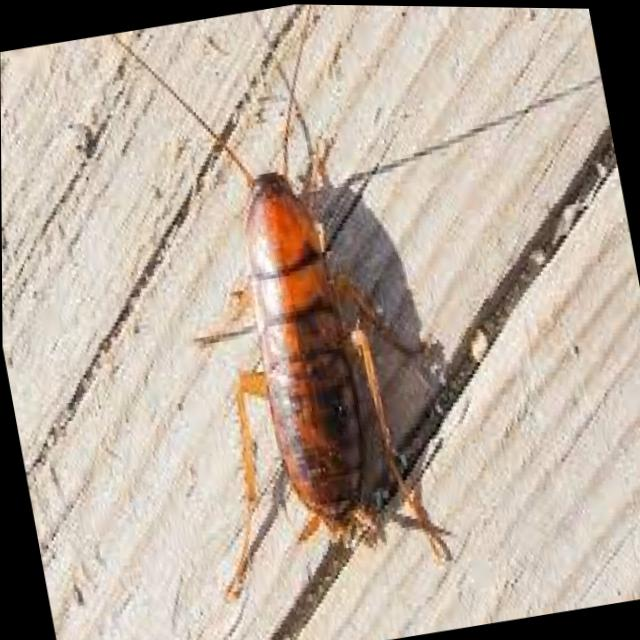Cockroach: (107, 1, 493, 616)
